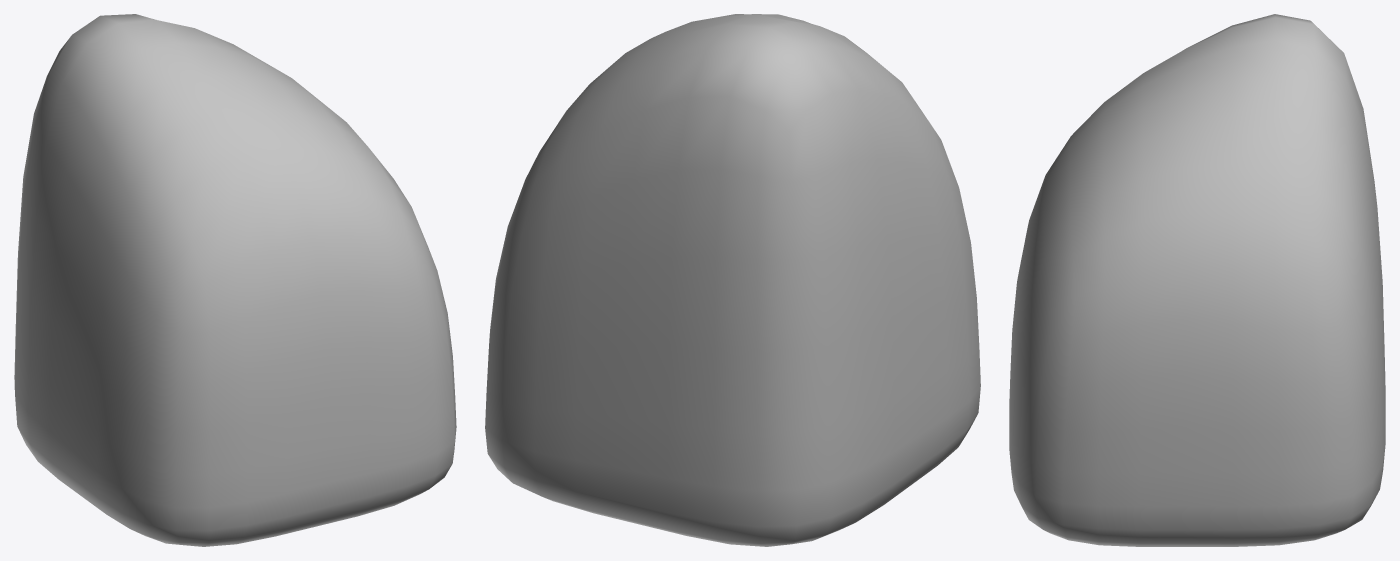
The model's file is Town_8_Stone_3.glb.
The picture shows the model from 3 angles, left to right: view 1: azimuth 30°, elevation 25°; view 2: azimuth 150°, elevation 25°; view 3: azimuth 270°, elevation 25°; orthographic projection. The views are drawn at different scales.
Visible parts, largest first — view 1: Town_8_Stone_3; view 2: Town_8_Stone_3; view 3: Town_8_Stone_3.
Part boxes in pixels (x1,y1,x2,y2): Town_8_Stone_3: [14, 14, 456, 546]; Town_8_Stone_3: [485, 14, 980, 546]; Town_8_Stone_3: [1009, 14, 1385, 546].
Bounding box in the file's own units: 1.56 × 1.99 × 1.56.
Materials: 1 (1 with a texture image).
